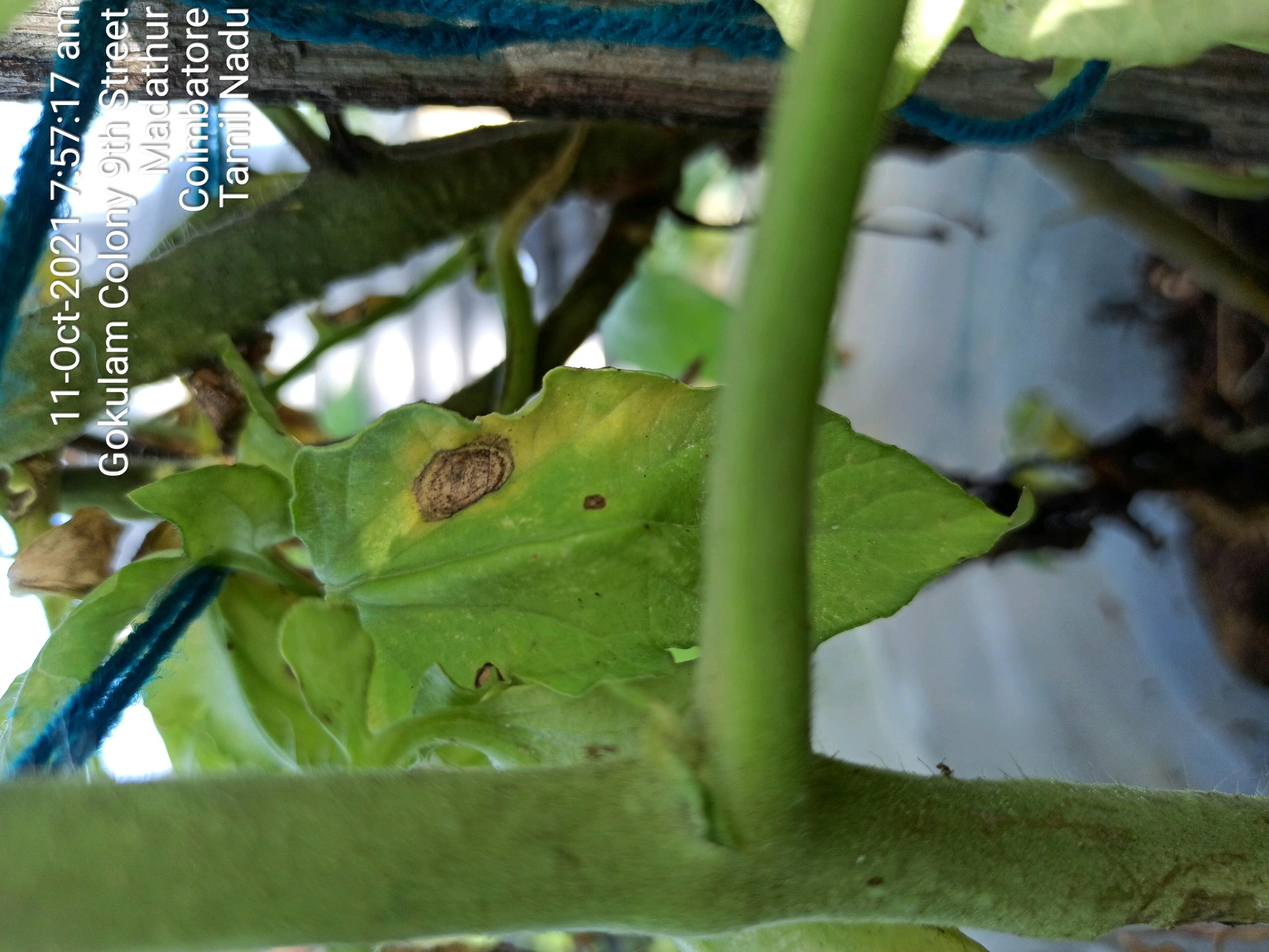Early Blight: (334, 220, 781, 778)
